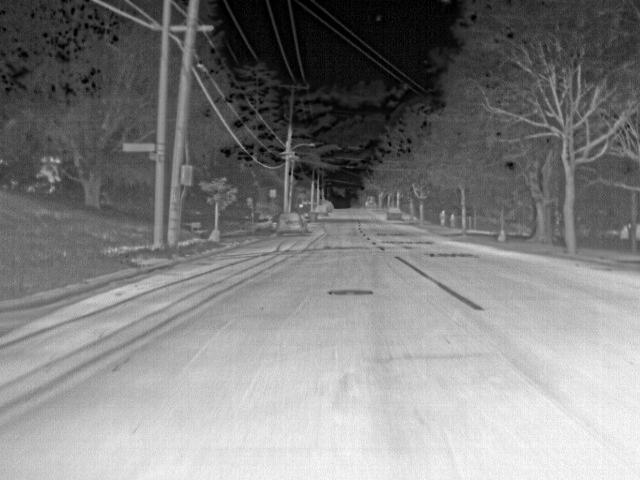car: (278, 209, 307, 235), (317, 204, 331, 218), (387, 206, 403, 218)
person: (439, 208, 448, 226), (448, 212, 456, 226)
